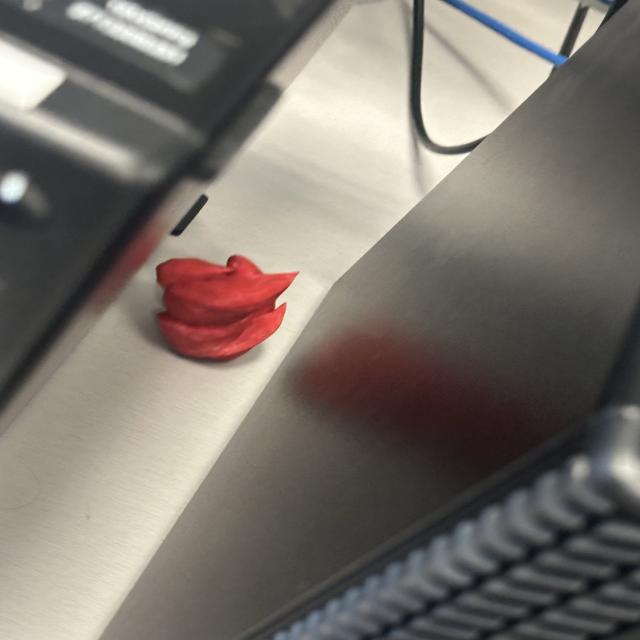fire: (151, 251, 301, 363)
